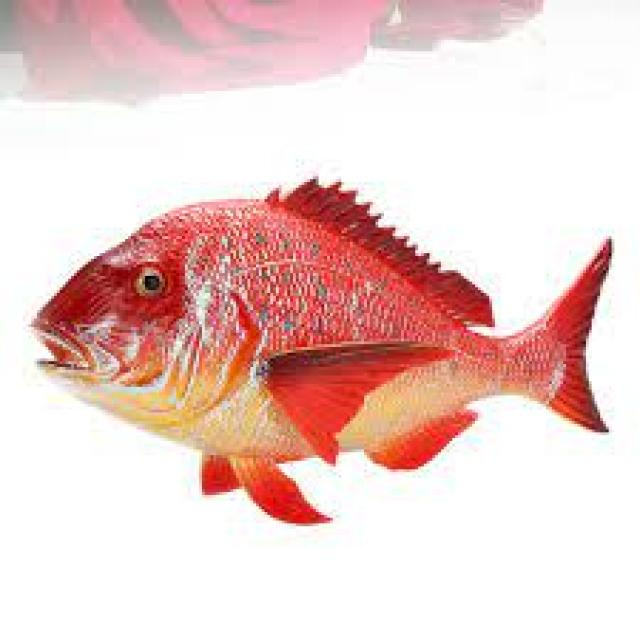northern-red-snapper: (27, 141, 628, 534)
